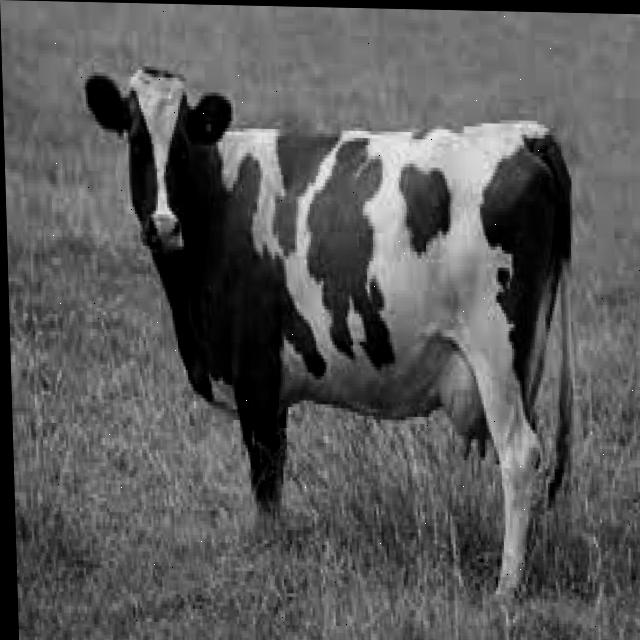Cow: (80, 54, 588, 607)
